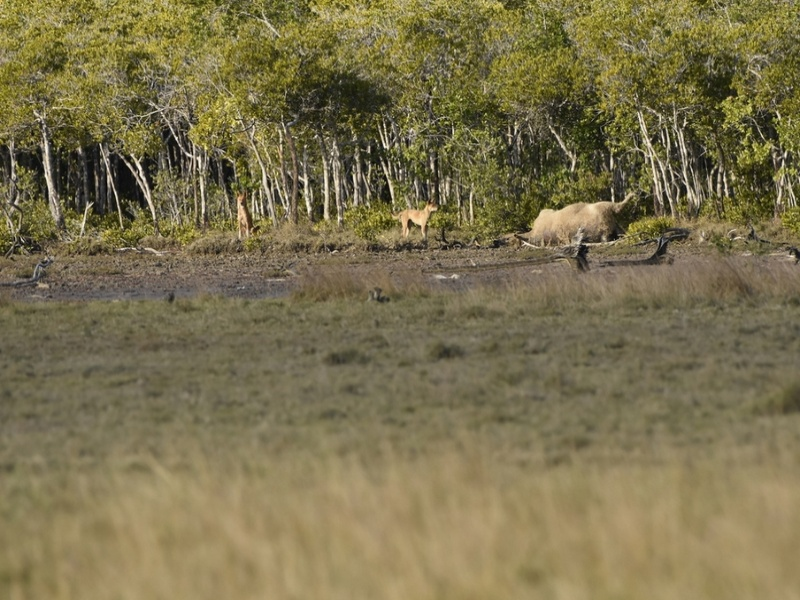dog: (391, 201, 442, 237), (233, 190, 256, 243)
